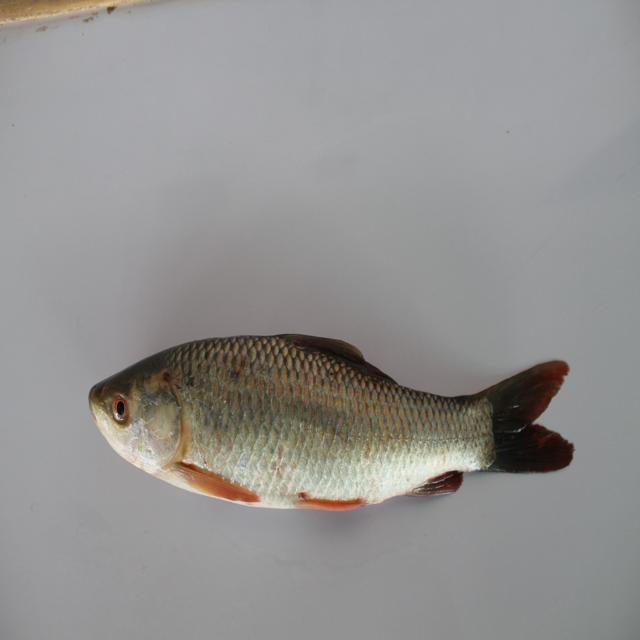Grass Carp: (81, 329, 571, 524)
